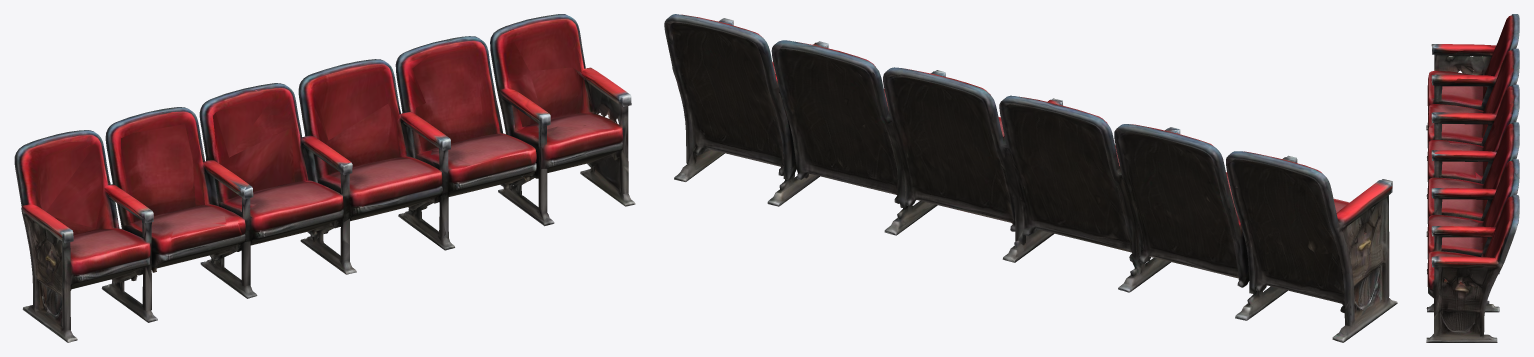
File: egy-seat-row.glb
3 views of the same model, side by side, from view 1: azimuth 30°, elevation 25°; view 2: azimuth 150°, elevation 25°; view 3: azimuth 270°, elevation 25° (orthographic). The views are drawn at different scales.
Parts seen in each view (by area): view 1: model; view 2: model; view 3: model.
Boxes of the visible parts, left/top/right/bottom form: model: left=14, top=14, right=635, bottom=342; model: left=664, top=14, right=1397, bottom=342; model: left=1426, top=14, right=1519, bottom=342.
Size of the model in its own units: 4 by 1.03 by 0.7302.
1 material, 1 textured.
